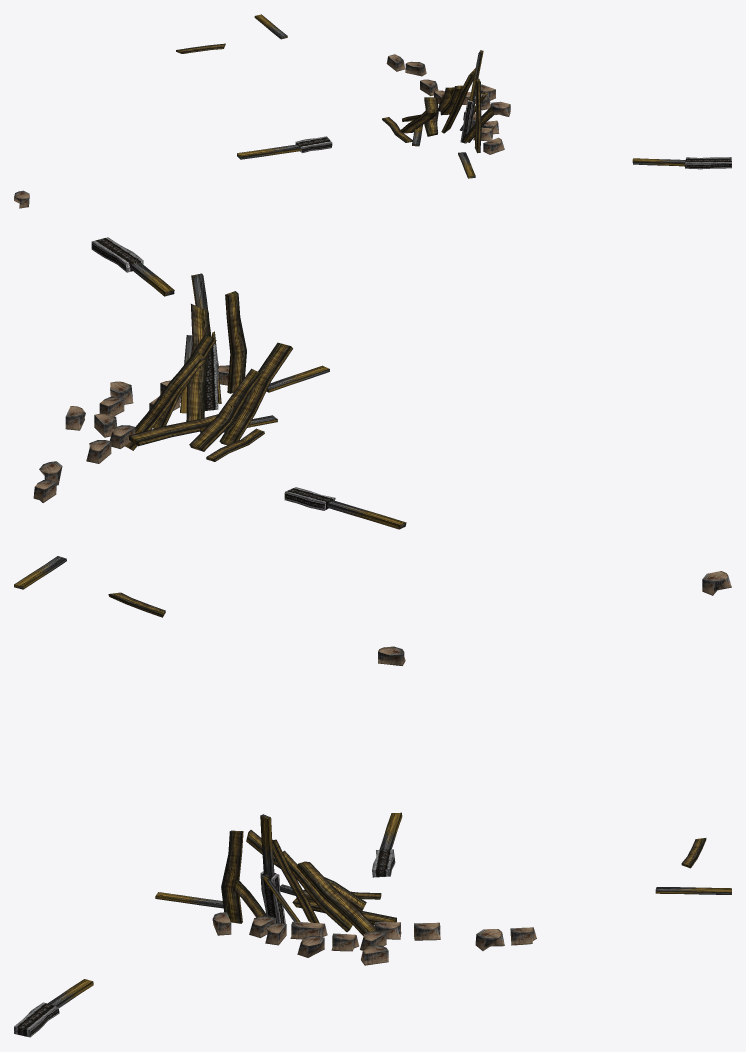
The model's file is CB_BEIORN_WALL_EXPLODE_ENDSTATE.fbx.
3 renders of one model, top to bottom at view 1: azimuth 30°, elevation 25°; view 2: azimuth 150°, elevation 25°; view 3: azimuth 270°, elevation 25°, orthographic. The views are drawn at different scales.
Parts seen in each view (by area): view 1: CB_BEIORN_WALL_EXPLODE_ENDSTATE; view 2: CB_BEIORN_WALL_EXPLODE_ENDSTATE; view 3: CB_BEIORN_WALL_EXPLODE_ENDSTATE.
Boxes of the visible parts, box(x1,y1,x2,y2) form: CB_BEIORN_WALL_EXPLODE_ENDSTATE: box(14, 14, 731, 208); CB_BEIORN_WALL_EXPLODE_ENDSTATE: box(14, 237, 731, 617); CB_BEIORN_WALL_EXPLODE_ENDSTATE: box(14, 646, 731, 1037).
Bounding box in the file's own units: 252167 × 40994 × 201600.
Materials: 4 (4 with a texture image).
